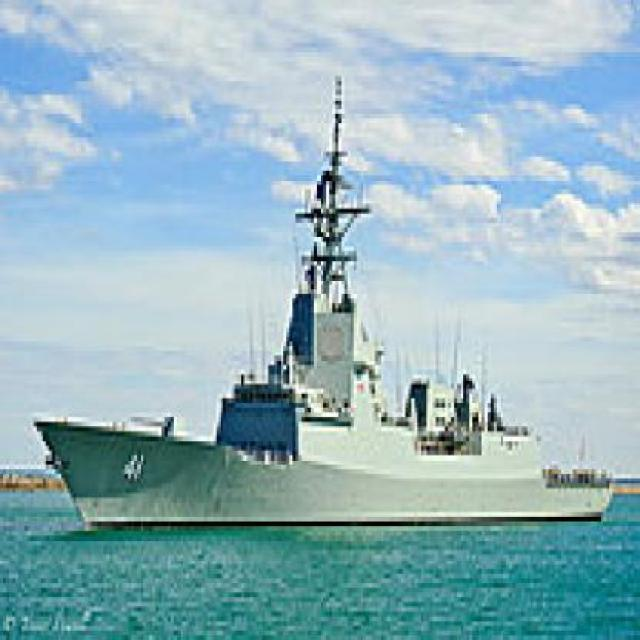warship2: (29, 63, 629, 557)
